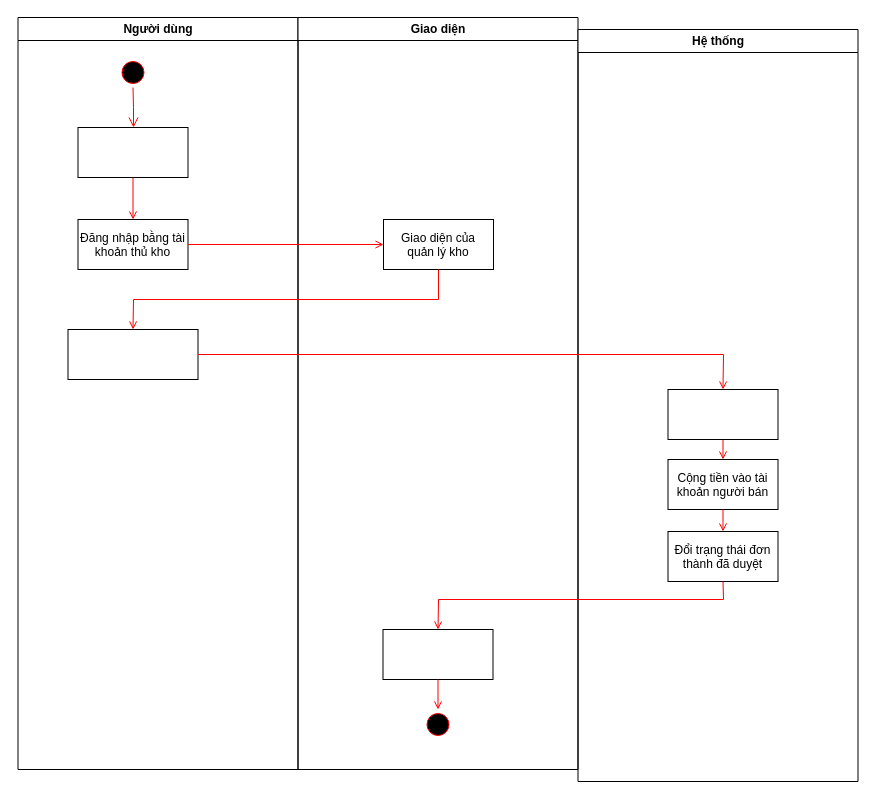
The diagram is 875 pixels wide and 799 high, and some of its shapes have lost their labels. The centre of each missing label's shape, as x and y in pixels:
Click button duyệt hàng: (132,354)
Refresh lại trang: (437,654)
Truy cập Fsale: (132,152)
Xuất excel chi tiết đơn hàng: (722,414)
